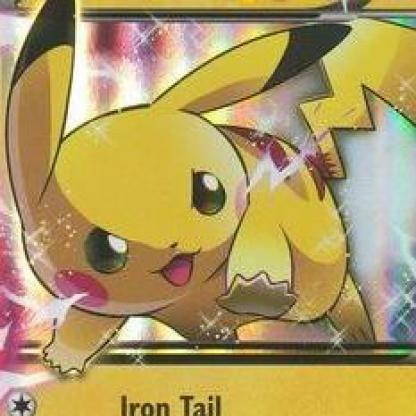Pikachu: (1, 19, 415, 369)
